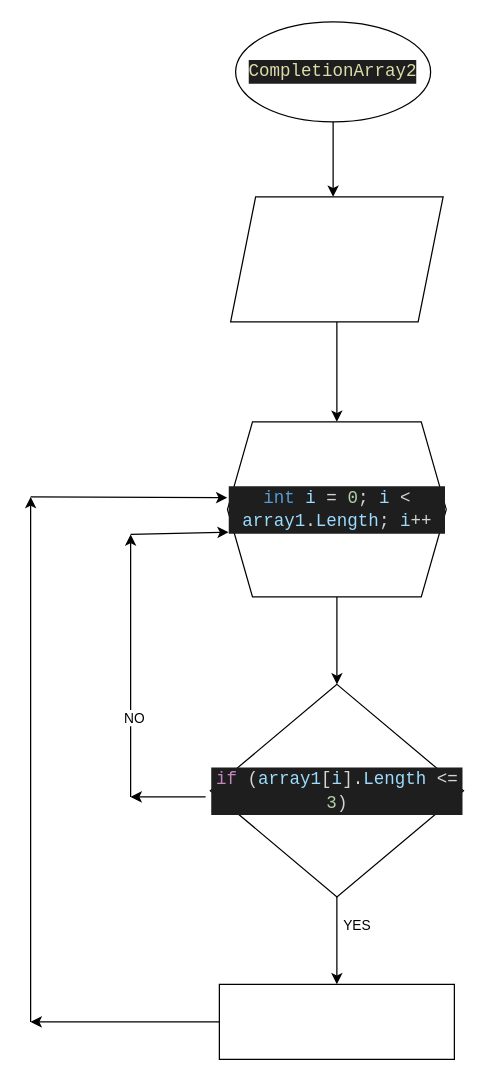
Some shapes in this 486 by 1081 pixel diagram are drawn without their labels. Each missing label, with the box of its shape:
array2 [ j ] = array1 [ i ]; j ++;: (218, 983, 454, 1059)
string [] array1 string [] array2: (229, 196, 443, 322)
